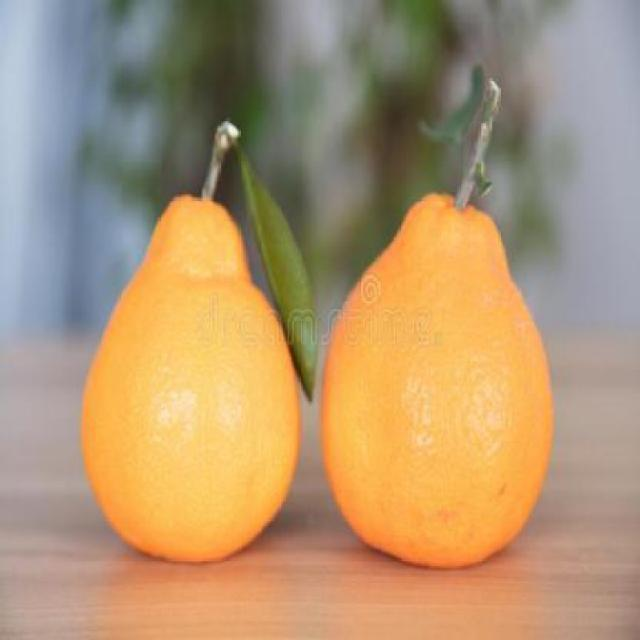Jeruk Sudah Matang: (322, 189, 553, 566), (85, 196, 302, 552)
